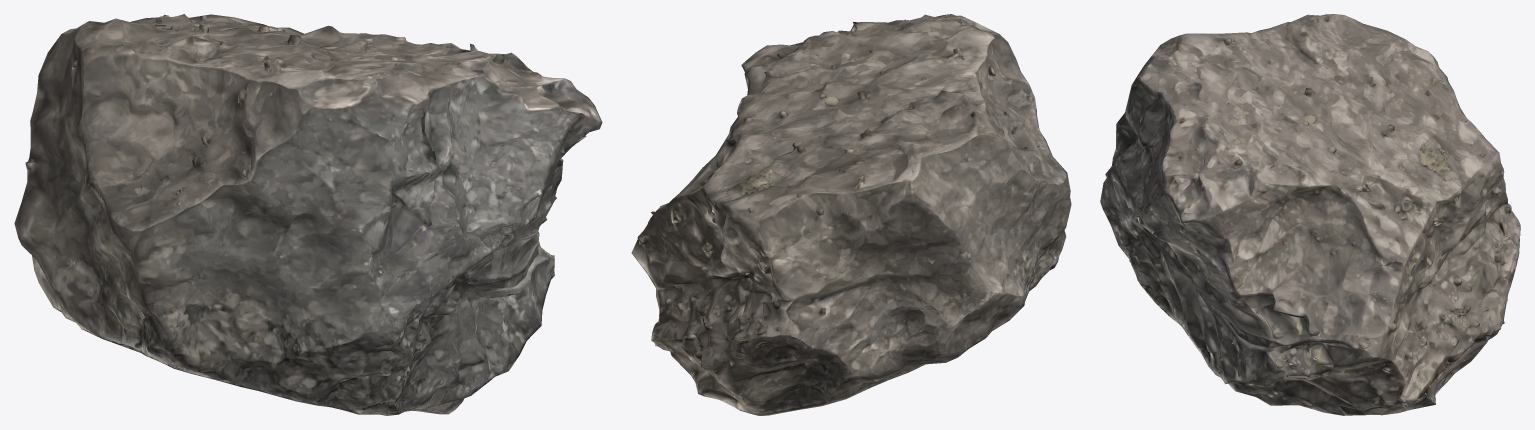
Rendered from boulder_e.glb.
3 views of the same model, side by side, from view 1: azimuth 30°, elevation 25°; view 2: azimuth 150°, elevation 25°; view 3: azimuth 270°, elevation 25° (orthographic). The views are drawn at different scales.
Visible parts, largest first — view 1: boulder_e; view 2: boulder_e; view 3: boulder_e.
Part boxes in pixels (x1=…): boulder_e: x1=14, y1=14, x2=602, y2=415; boulder_e: x1=631, y1=14, x2=1071, y2=415; boulder_e: x1=1100, y1=14, x2=1520, y2=415.
Bounding box in the file's own units: 5.01 × 3.99 × 5.1.
Materials: 1 (1 with a texture image).
